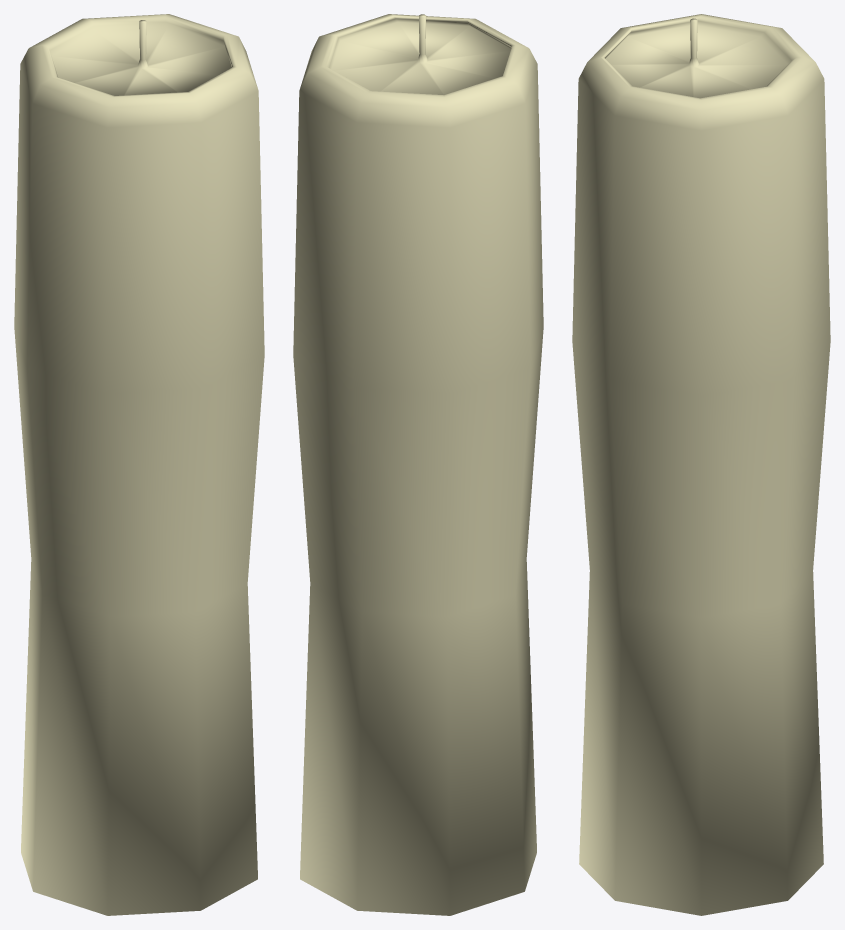
Rendered from Vela.fbx.
3 views of the same model, side by side, from view 1: azimuth 30°, elevation 25°; view 2: azimuth 150°, elevation 25°; view 3: azimuth 270°, elevation 25° (orthographic).
Visible parts, largest first — view 1: Vela; view 2: Vela; view 3: Vela.
Boxes of the visible parts, box(x1,y1,x2,y2) form: Vela: box(14, 14, 264, 915); Vela: box(293, 14, 543, 915); Vela: box(572, 14, 830, 915).
Bounding box in the file's own units: 12.09 × 43.59 × 12.09.
